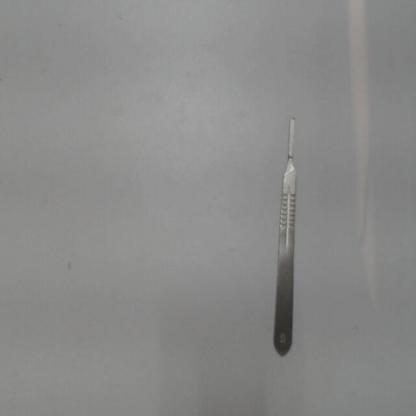No.4 BP Handle: (270, 110, 303, 364)
